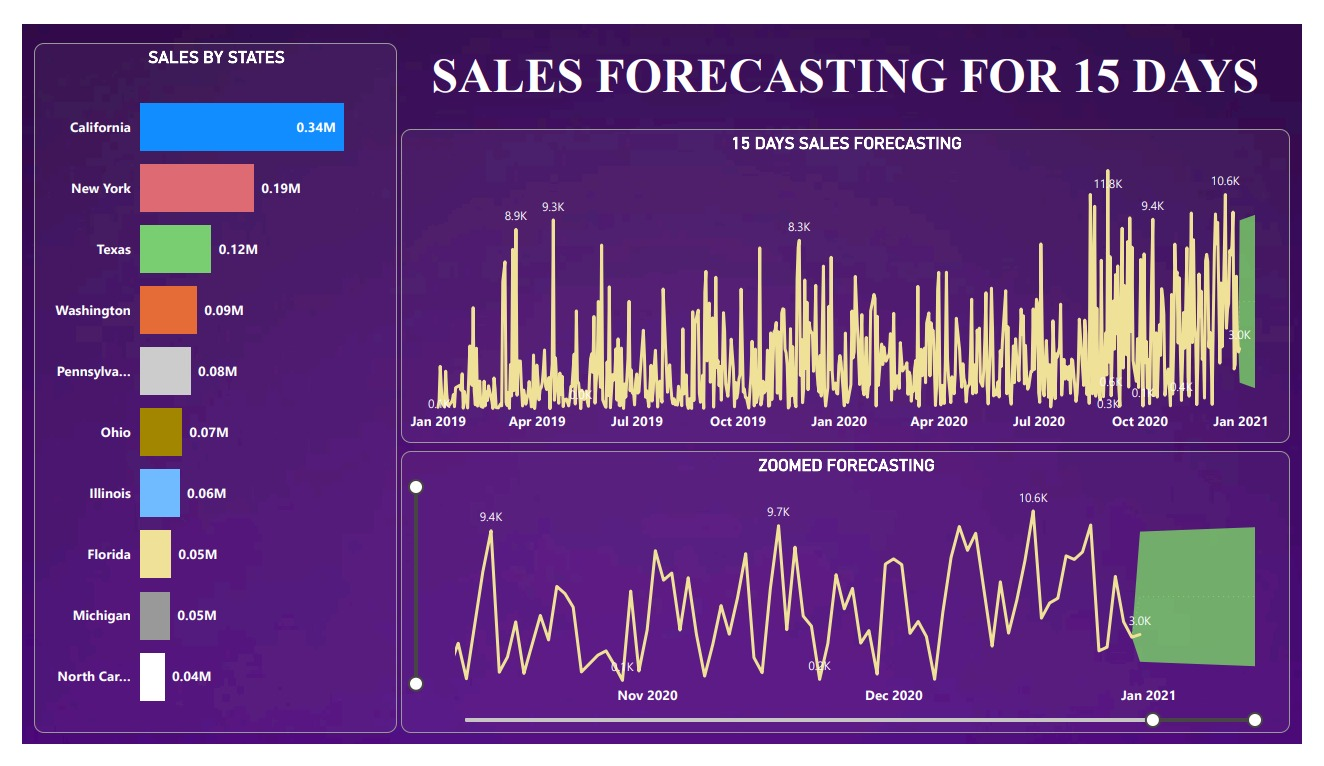

What the dashboard file says about the page in this screenshot:
{"tool":"powerbi","page":{"name":"Sales Forecast","canvas":[1280,720],"ordinal":1},"visuals":[{"type":"lineChart","title":"15 DAYS SALES FORECASTING","fields":{"Y":["Sum(SuperStore_Sales_Dataset.Sales)"],"Category":["SuperStore_Sales_Dataset.Order Date.Variation.Date Hierarchy.Year","SuperStore_Sales_Dataset.Order Date.Variation.Date Hierarchy.Quarter","SuperStore_Sales_Dataset.Order Date.Variation.Date Hierarchy.Month","SuperStore_Sales_Dataset.Order Date.Variation.Date Hierarchy.Day"]},"box":[378.7,104.8,889.2,314.1],"z":0},{"type":"lineChart","title":"ZOOMED FORECASTING","fields":{"Y":["Sum(SuperStore_Sales_Dataset.Sales)"],"Category":["SuperStore_Sales_Dataset.Order Date.Variation.Date Hierarchy.Year","SuperStore_Sales_Dataset.Order Date.Variation.Date Hierarchy.Quarter","SuperStore_Sales_Dataset.Order Date.Variation.Date Hierarchy.Month","SuperStore_Sales_Dataset.Order Date.Variation.Date Hierarchy.Day"]},"box":[378.7,427.3,889.2,281.5],"z":1000},{"type":"clusteredBarChart","title":"SALES BY STATES","fields":{"Category":["SuperStore_Sales_Dataset.State"],"Y":["Sum(SuperStore_Sales_Dataset.Sales)"]},"box":[11.9,18.6,363.3,690.5],"z":2000},{"type":"textbox","box":[378.9,18.9,888.9,67.8],"z":3000}]}

Visuals, with their boxes in screenshot pixels (x1, y1, x2, y2), scaled from the page's 1280x720 canvas onto the 1324x766 screenshot:
"15 DAYS SALES FORECASTING" lineChart: left=392, top=111, right=1311, bottom=446
"ZOOMED FORECASTING" lineChart: left=392, top=455, right=1311, bottom=754
"SALES BY STATES" clusteredBarChart: left=12, top=20, right=388, bottom=754
textbox: left=392, top=20, right=1311, bottom=92
